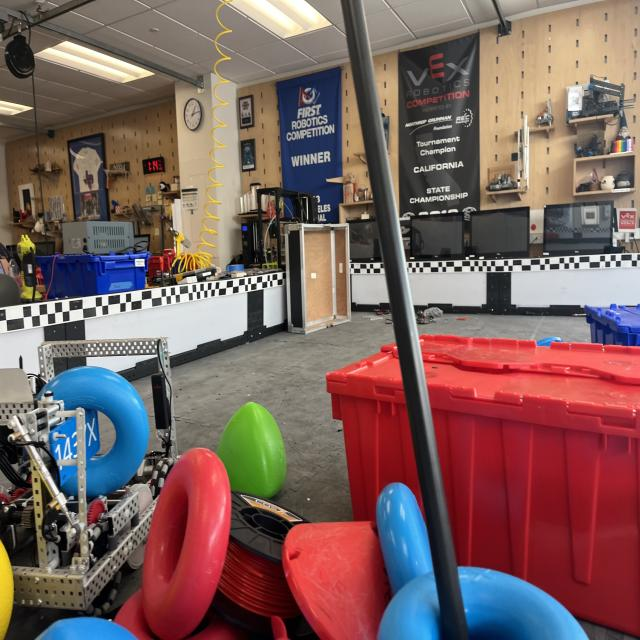Blue-Ring: (379, 563, 588, 638), (41, 367, 149, 497), (376, 483, 432, 593)
Red-Ring: (142, 448, 231, 638)
